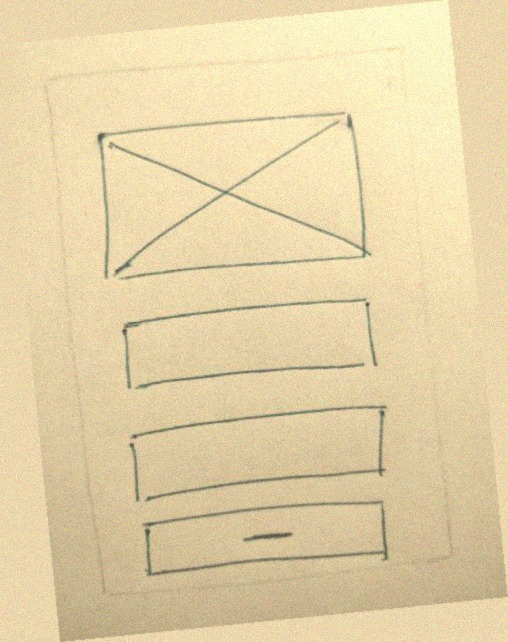button: (133, 492, 395, 588)
image: (84, 96, 380, 293)
text_input: (110, 289, 387, 405), (118, 399, 398, 512)
